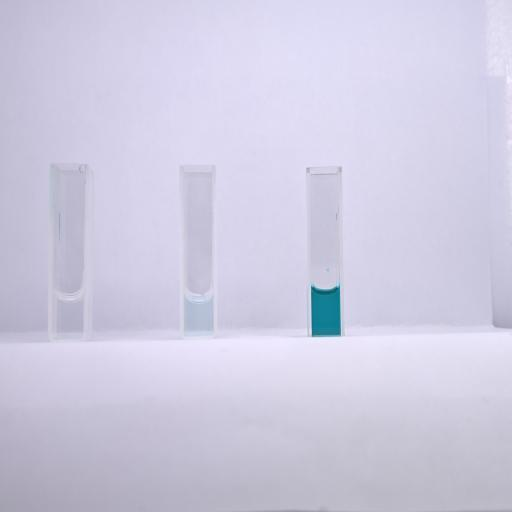cuvette: (46, 158, 92, 346), (176, 161, 221, 343), (304, 163, 347, 339)
liquid: (52, 290, 82, 340), (312, 288, 340, 333), (184, 293, 212, 334)
